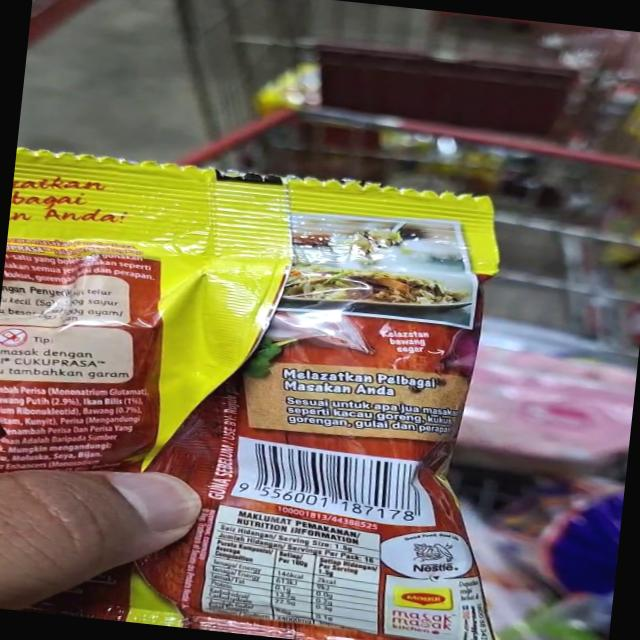Maggi Cukup Rasa: (0, 141, 557, 640)
